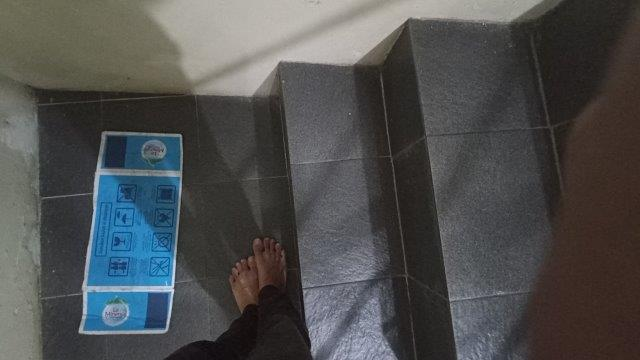kardus: (79, 132, 181, 333)
